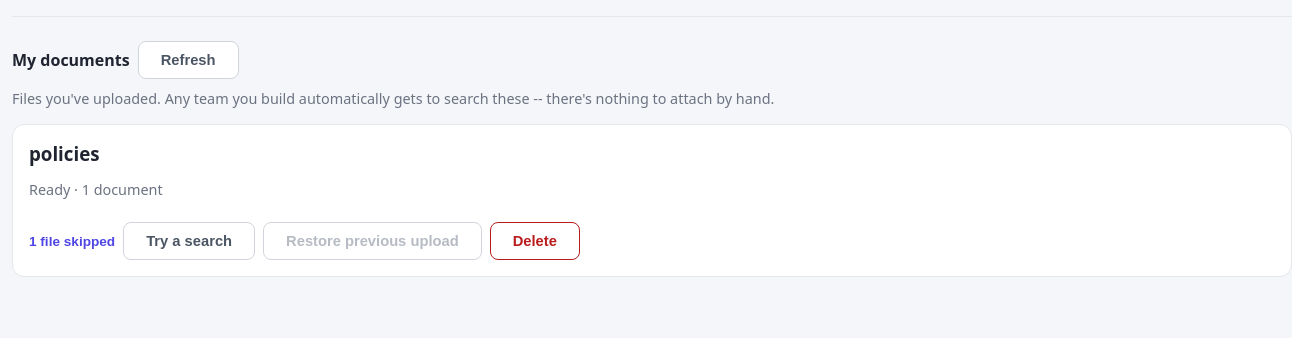
Scenario: KnowledgeBasesPanel › lets the reader expand the files a completed upload skipped
Expected: the text "no text layer" is not shown
Click the button "1 file skipped" at (72, 241), box top-left (29, 234), bottom-right (115, 249)
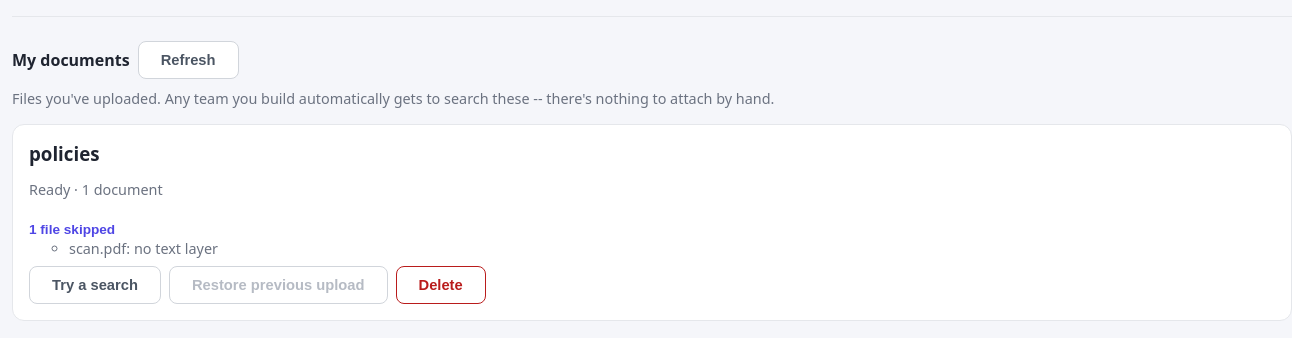
Expected: the list item "scan.pdf: no text layer" is shown, top-left (69, 239), bottom-right (218, 258)
